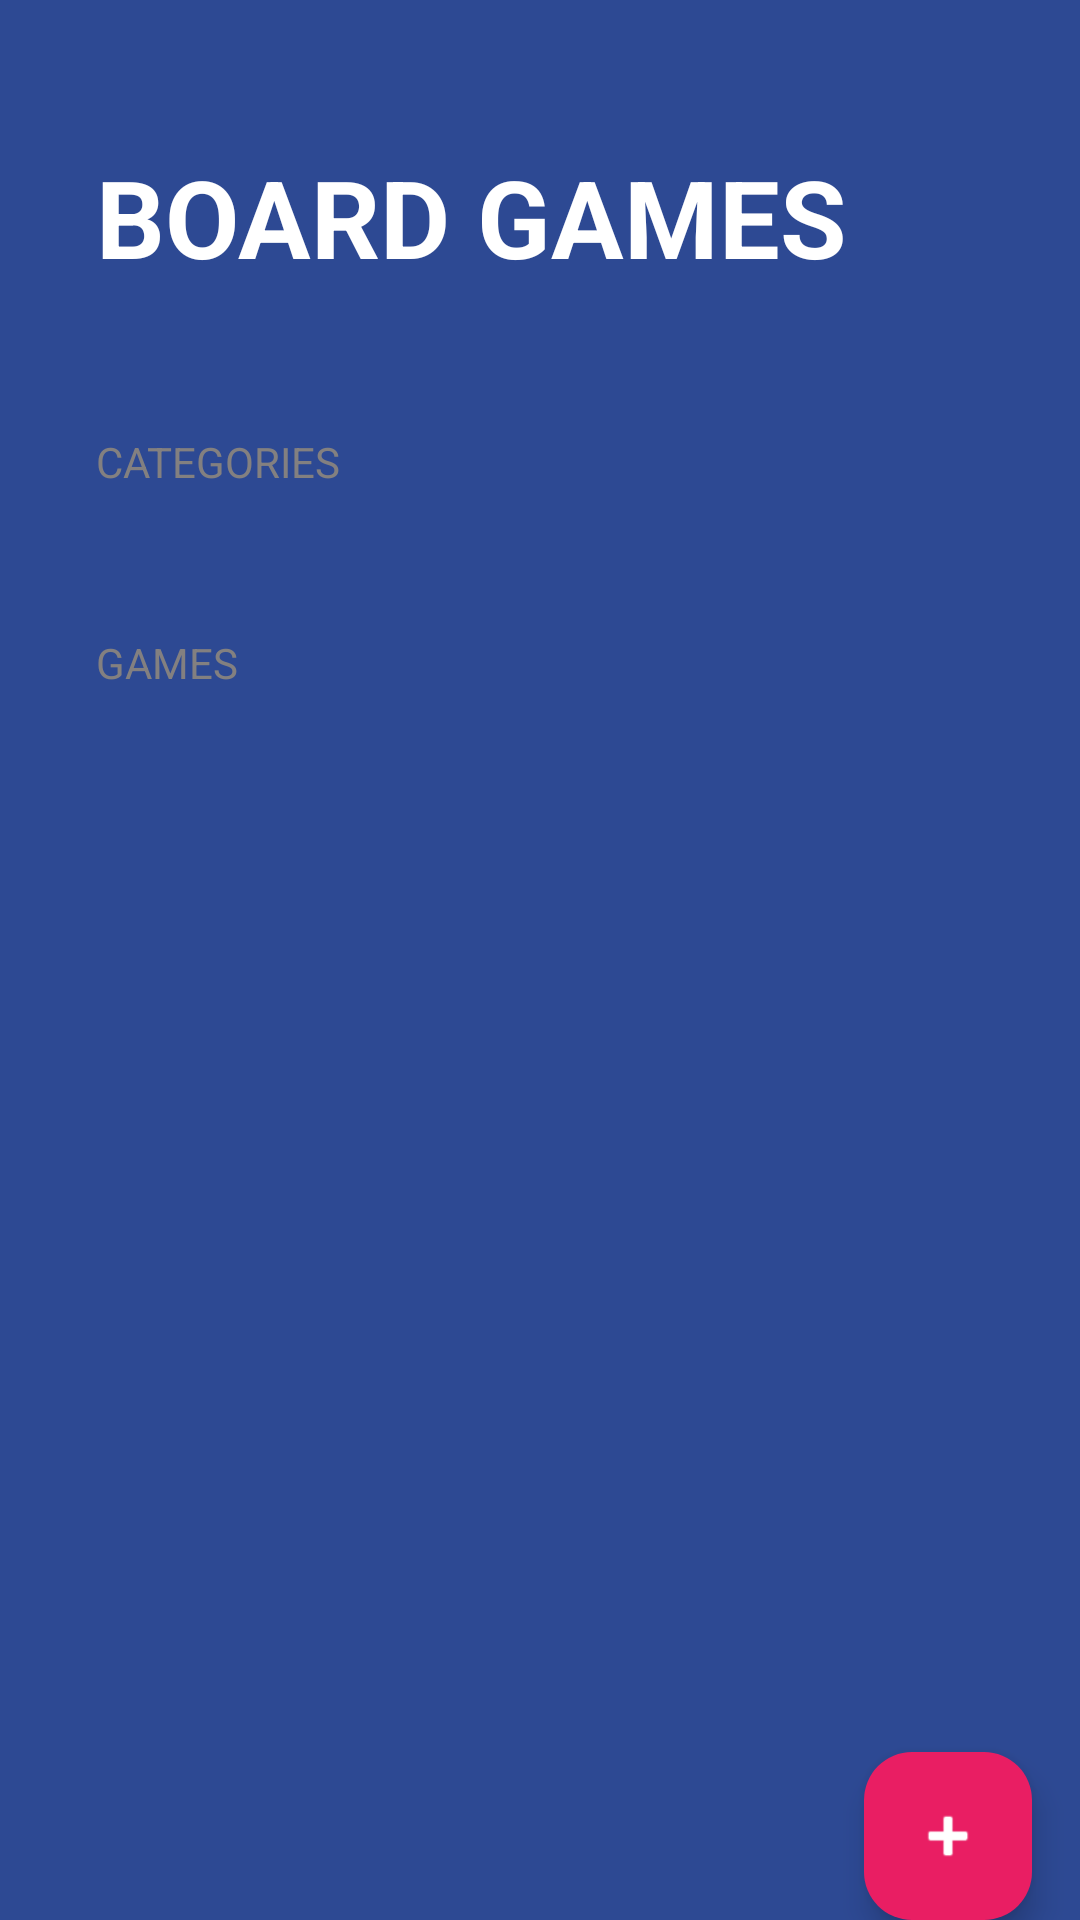

Screen size 1080px x 1920px. Icon name, then its box in pixels as region(x1, y1, x2, y2):
Add a new game: region(864, 1752, 1032, 1920)
